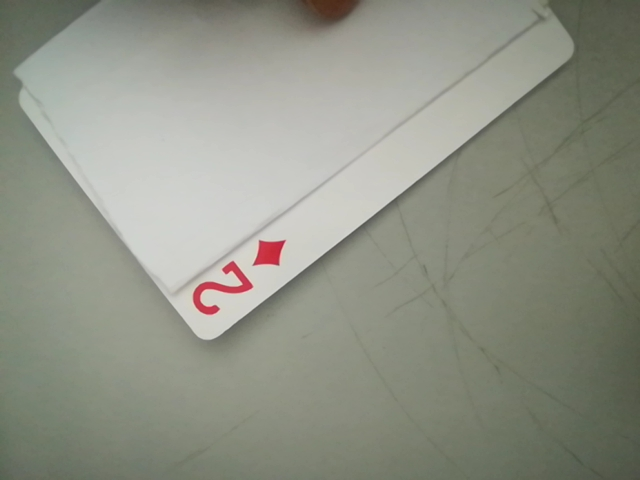fk 2: (180, 237, 295, 330)
